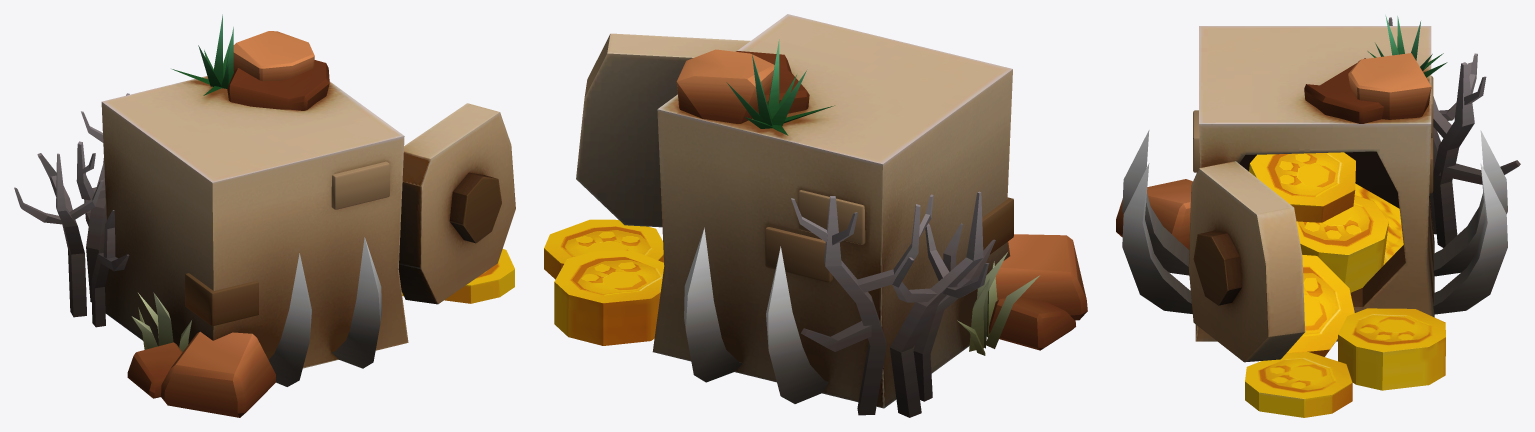
File: Safe Desert.obj
The picture shows the model from 3 angles, left to right: view 1: azimuth 30°, elevation 25°; view 2: azimuth 150°, elevation 25°; view 3: azimuth 270°, elevation 25°; orthographic projection. The views are drawn at different scales.
Parts seen in each view (by area): view 1: SafeDesert1; view 2: SafeDesert1; view 3: SafeDesert1.
Part boxes in pixels (<box>): SafeDesert1: <box>14,14,515,417</box>; SafeDesert1: <box>544,14,1087,417</box>; SafeDesert1: <box>1116,15,1520,417</box>.
Bounding box in the file's own units: 11.83 × 7.09 × 9.14.
Materials: 1 (1 with a texture image).
